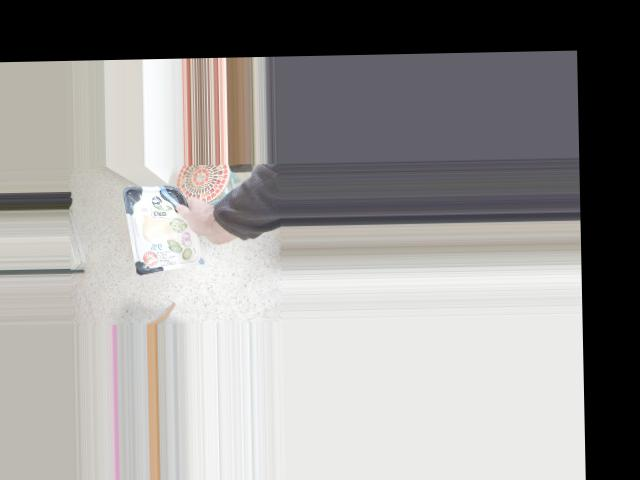cheese: (146, 200, 217, 272)
